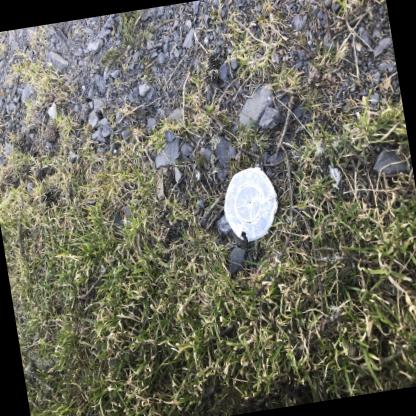Plastic: (223, 165, 277, 240)
Waste: (328, 163, 340, 187)
